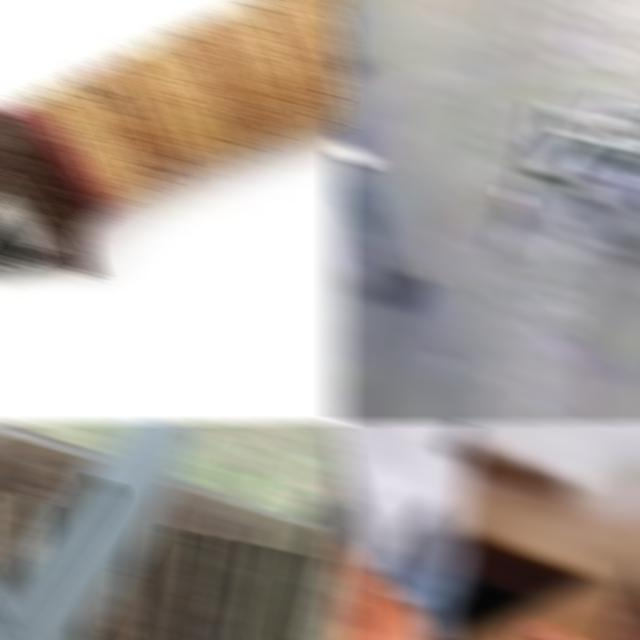Knife: (0, 420, 195, 640)
Knife_Handle: (332, 530, 640, 640), (332, 101, 376, 169)
